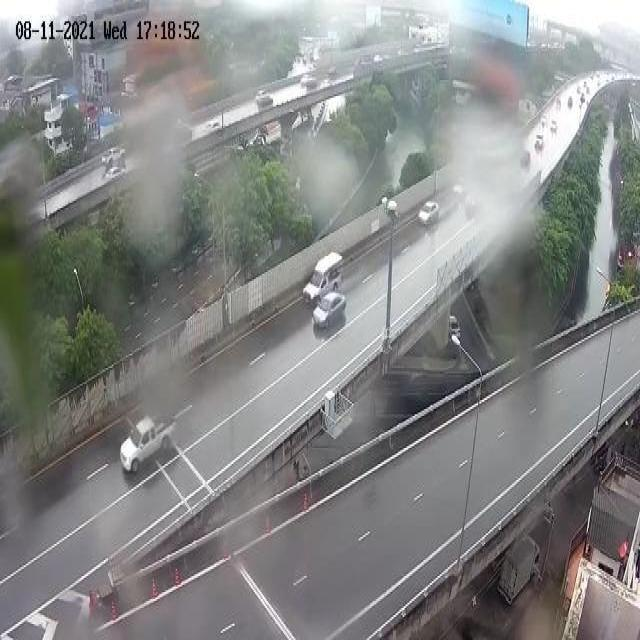Car: (123, 414, 178, 482), (312, 290, 347, 332), (419, 199, 441, 227)
Van: (302, 250, 343, 306)
